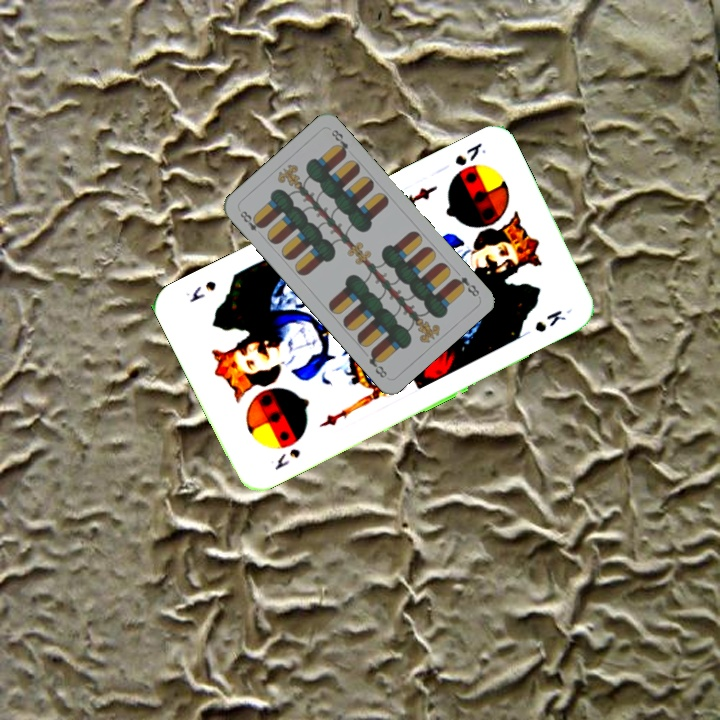E8: (449, 272, 482, 299), (236, 207, 266, 234)
SK: (450, 138, 489, 169), (270, 444, 303, 473)
